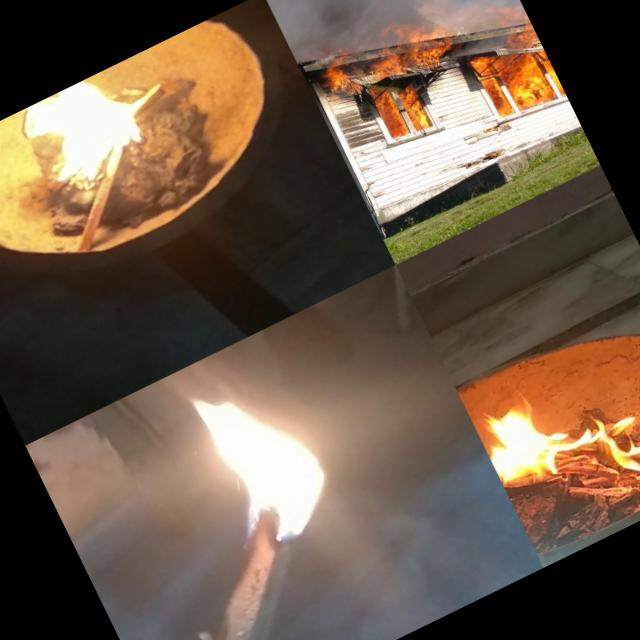fire: (163, 342, 363, 571), (465, 324, 640, 537), (2, 63, 162, 210), (315, 3, 453, 112), (464, 13, 568, 130), (370, 78, 440, 148)
smoke: (262, 0, 500, 60), (431, 0, 525, 45)
